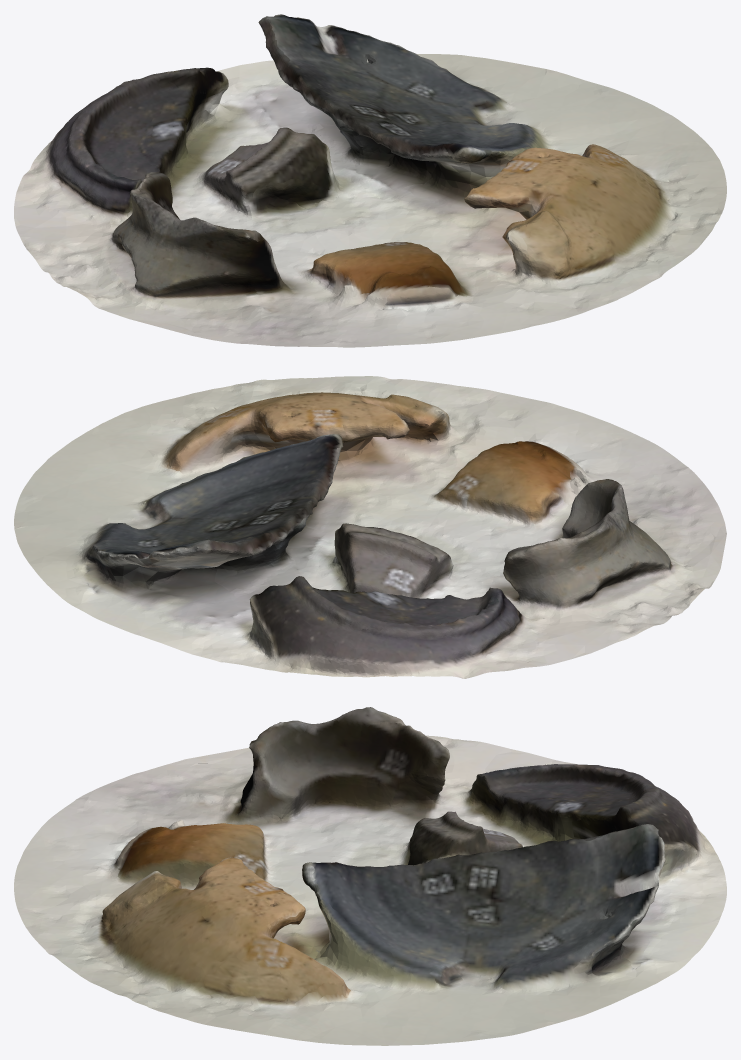
The picture shows the model from 3 angles, top to bottom: view 1: azimuth 30°, elevation 25°; view 2: azimuth 150°, elevation 25°; view 3: azimuth 270°, elevation 25°; orthographic projection. The views are drawn at different scales.
Visible parts, largest first — view 1: mesh; view 2: mesh; view 3: mesh.
Boxes of the visible parts, left/top/right/bottom form: mesh: left=14, top=14, right=726, bottom=347; mesh: left=14, top=376, right=726, bottom=678; mesh: left=14, top=707, right=726, bottom=1045.
Size of the model in its own units: 0.2985 by 0.0395 by 0.2842.
1 material, 1 textured.
